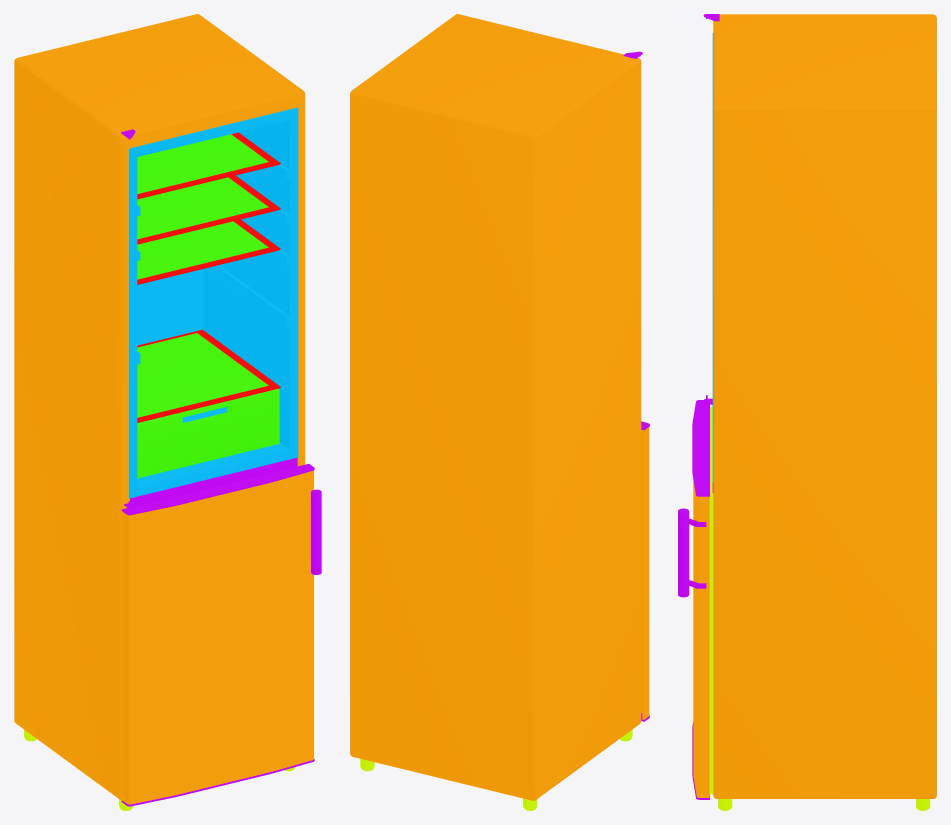
Rendered from FridgeTest.fbx.
3 views of the same model, side by side, from view 1: azimuth 30°, elevation 25°; view 2: azimuth 150°, elevation 25°; view 3: azimuth 270°, elevation 25° (orthographic). The views are drawn at different scales.
Parts seen in each view (by area): view 1: FridgeConnected; view 2: FridgeConnected; view 3: FridgeConnected.
Boxes of the visible parts, <box> form: FridgeConnected: <box>14,14,321,810</box>; FridgeConnected: <box>350,14,649,810</box>; FridgeConnected: <box>678,14,936,810</box>.
Bounding box in the file's own units: 60.89 × 210 × 69.46.
